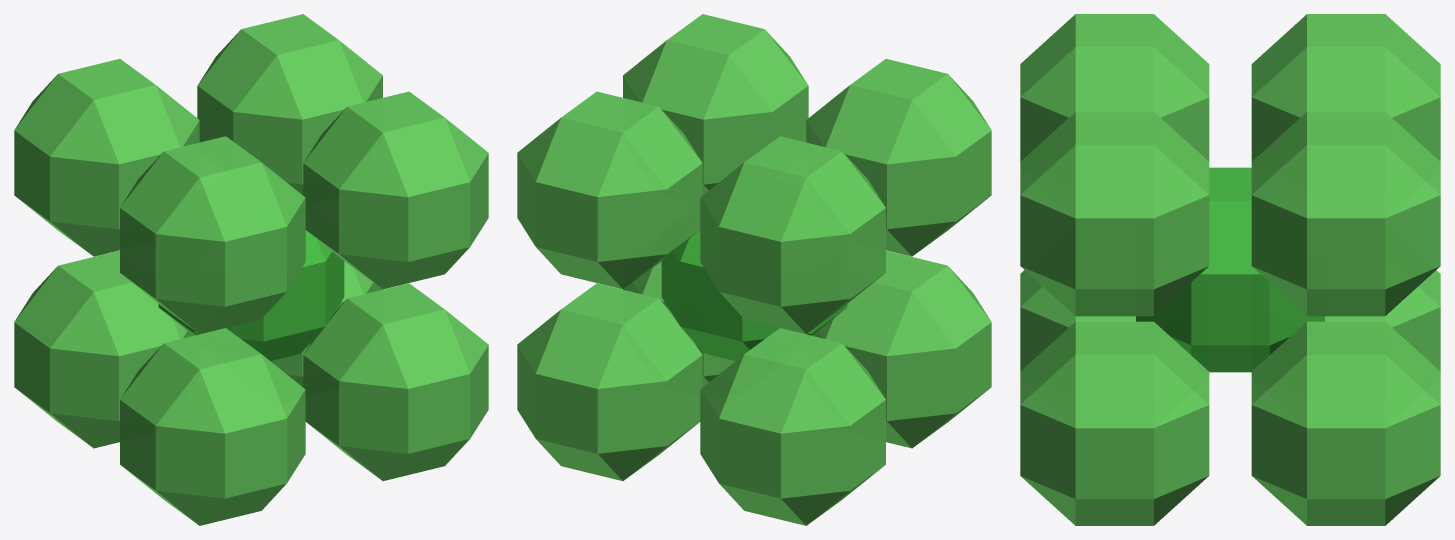
The model's file is fractalrhombicuboctahedron1.glb.
3 views of the same model, side by side, from view 1: azimuth 30°, elevation 25°; view 2: azimuth 150°, elevation 25°; view 3: azimuth 270°, elevation 25° (orthographic). The views are drawn at different scales.
Size of the model in its own units: 7.5 by 7.5 by 7.5.
